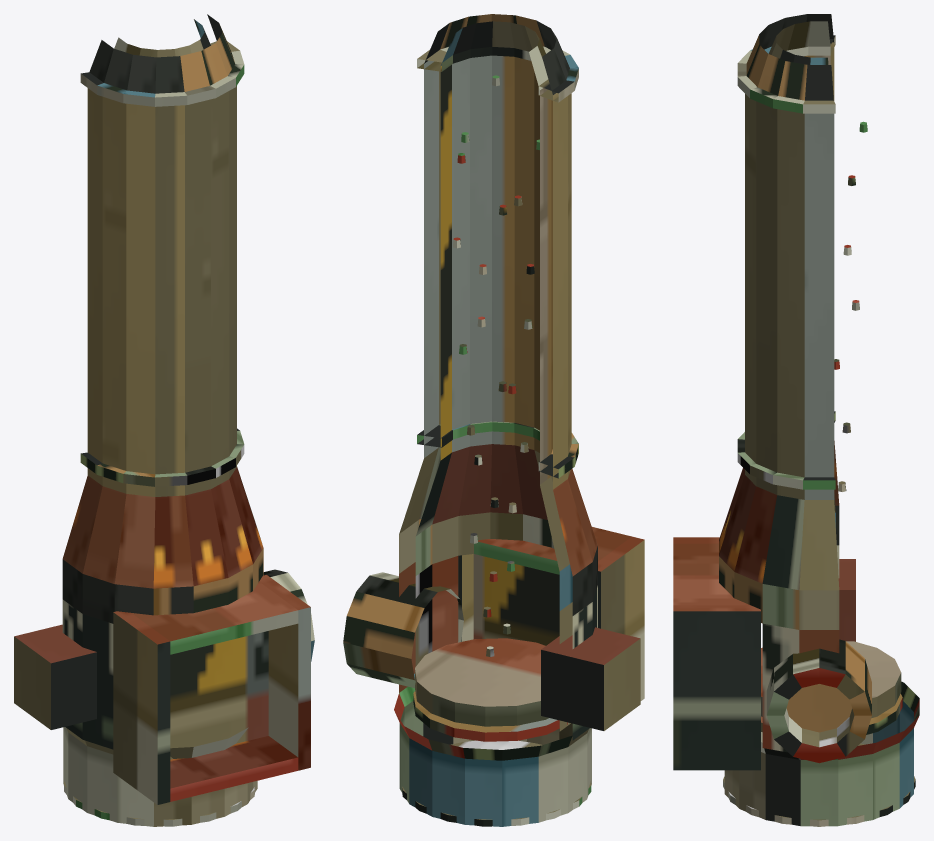
File: air_reactor_cutaway.obj
The picture shows the model from 3 angles, left to right: view 1: azimuth 30°, elevation 25°; view 2: azimuth 150°, elevation 25°; view 3: azimuth 270°, elevation 25°; orthographic projection.
Parts seen in each view (by area): view 1: shell, heat_out, windbox, ku_input, bands, lining, carrier_out, air_input; view 2: lining, shell, windbox, heat_out, bed, ku_input, air_input, bands, distributor, particles, carrier_out; view 3: shell, heat_out, windbox, air_input, bands, bed, lining, ku_input, carrier_out, distributor, particles.
Boxes of the visible parts, x1,y1,x2,y2 form: shell: (62,14,263,749); heat_out: (113,575,310,804); windbox: (63,727,257,826); ku_input: (14,624,96,729); bands: (80,41,244,486); lining: (114,19,210,57); carrier_out: (64,781,255,826); air_input: (263,569,314,661); lining: (415,21,572,731); shell: (399,14,597,740); windbox: (394,686,591,826); heat_out: (458,527,644,700); bed: (415,638,548,726); ku_input: (541,627,640,730); air_input: (343,572,463,688); bands: (417,46,578,478); distributor: (413,691,568,741); particles: (453,75,539,656); carrier_out: (402,740,591,826); shell: (719,14,839,752); heat_out: (673,537,760,770); windbox: (724,681,919,826); air_input: (766,639,871,763); bands: (737,35,835,489); bed: (761,641,901,718); lining: (768,21,835,527); ku_input: (838,559,855,641); carrier_out: (723,743,915,826); distributor: (761,693,902,734); particles: (834,121,867,491).
Size of the model in its own units: 1 by 2.82 by 0.8433.
1 material, 1 textured.
